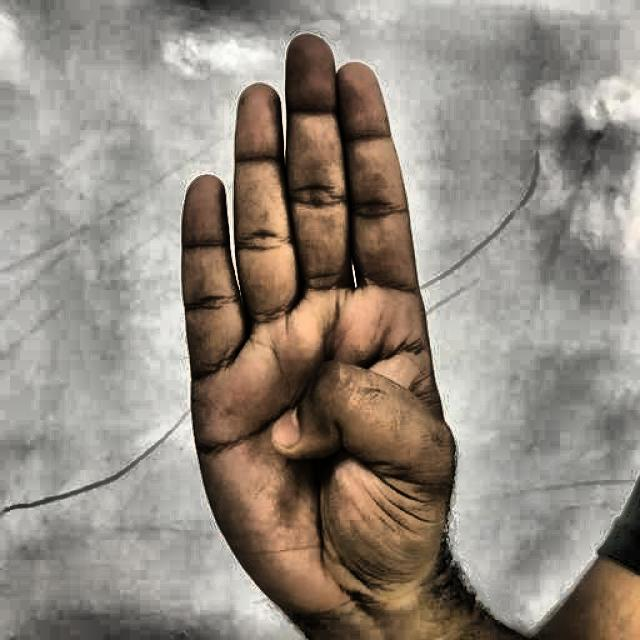Ba: (149, 27, 487, 630)
